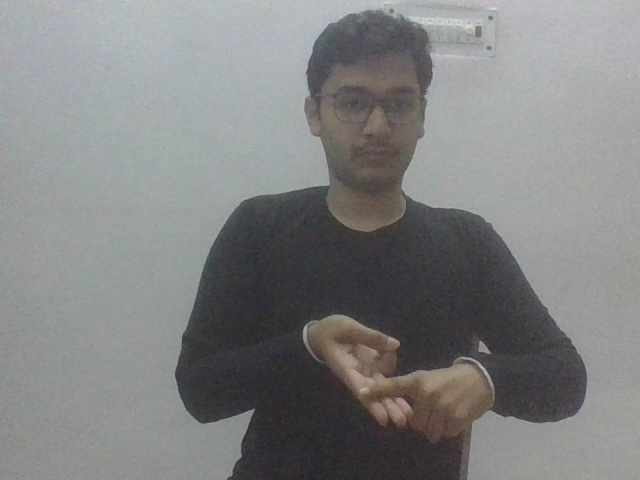E: (302, 311, 496, 447)
